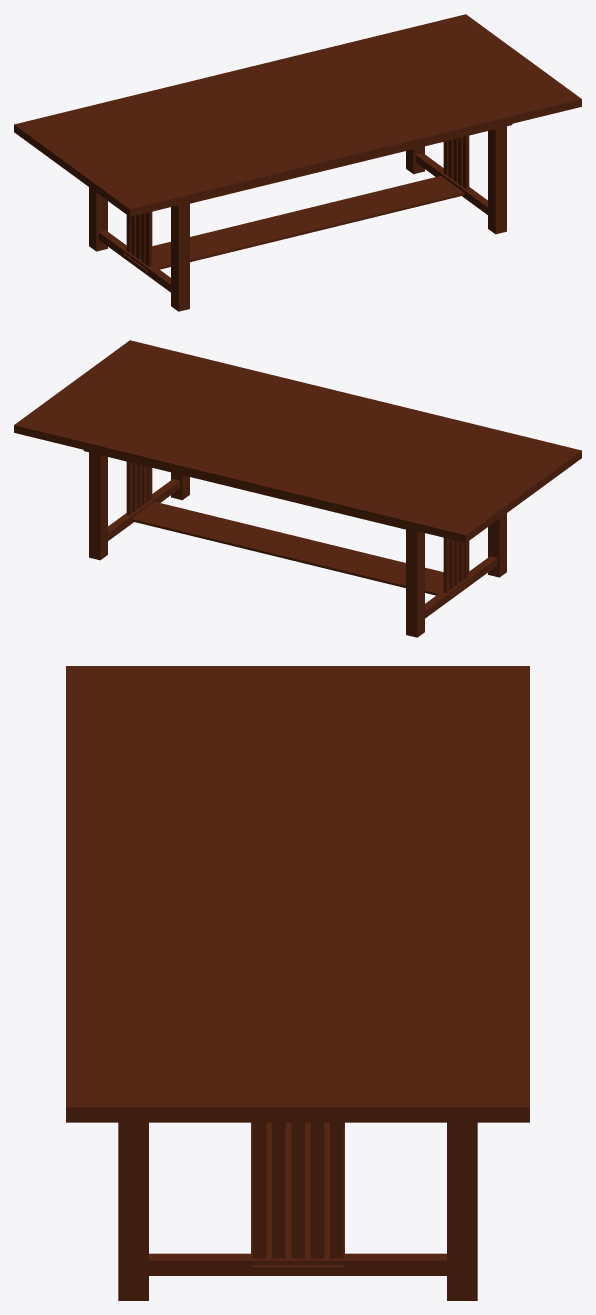
The model's file is Mesa com cadeira.fbx.
3 views of the same model, one above another, from view 1: azimuth 30°, elevation 25°; view 2: azimuth 150°, elevation 25°; view 3: azimuth 270°, elevation 25° (orthographic). The views are drawn at different scales.
Parts seen in each view (by area): view 1: Node; view 2: Node; view 3: Node.
Part boxes in pixels (x1,y1,x2,y2): Node: (14,14,581,311); Node: (14,340,581,637); Node: (66,666,529,1300).
Size of the model in its own units: 108 by 29 by 48.
